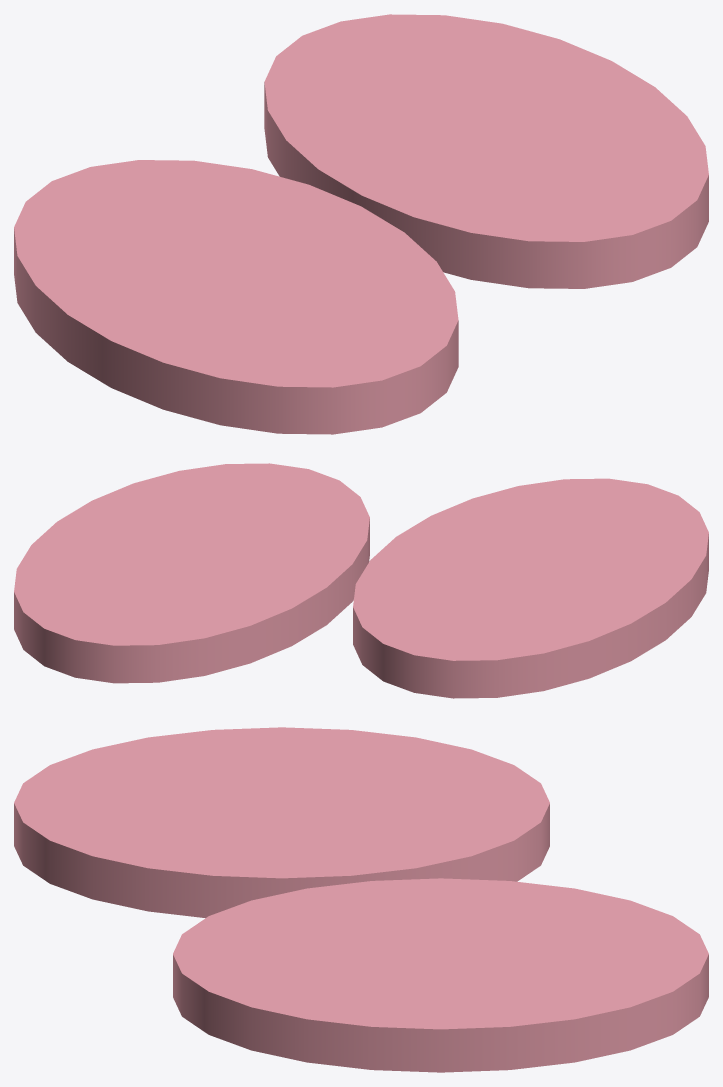
File: huella.glb
3 views of the same model, one above another, from view 1: azimuth 30°, elevation 25°; view 2: azimuth 150°, elevation 25°; view 3: azimuth 270°, elevation 25° (orthographic). The views are drawn at different scales.
Parts seen in each view (by area): view 1: Pisada (×2); view 2: Pisada (×2); view 3: Pisada (×2).
Part boxes in pixels (left/top/right/bottom): Pisada (×2): left=14, top=14, right=708, bottom=434; Pisada (×2): left=14, top=463, right=708, bottom=698; Pisada (×2): left=14, top=727, right=708, bottom=1072.
Bounding box in the file's own units: 0.18 × 0.012 × 0.175.
